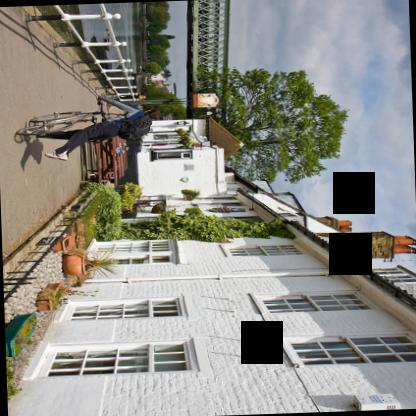backpack: (117, 114, 155, 140)
